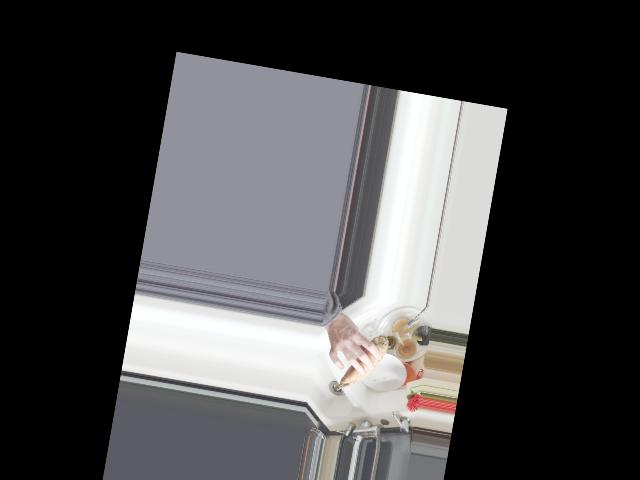sweet_potato: (335, 329, 389, 398)
